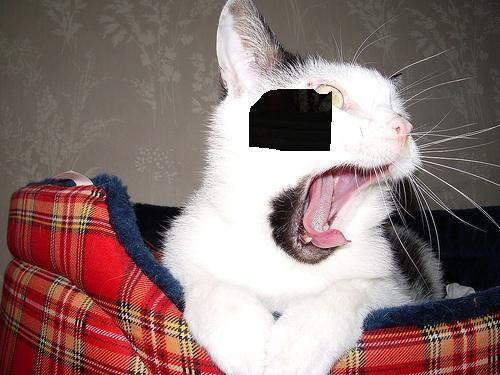tampered: (250, 90, 332, 151)
